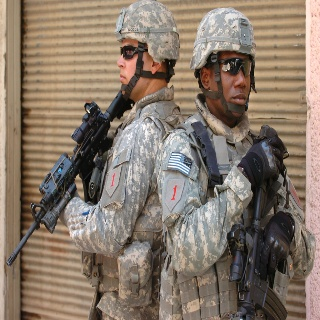rifle: (3, 90, 132, 267)
